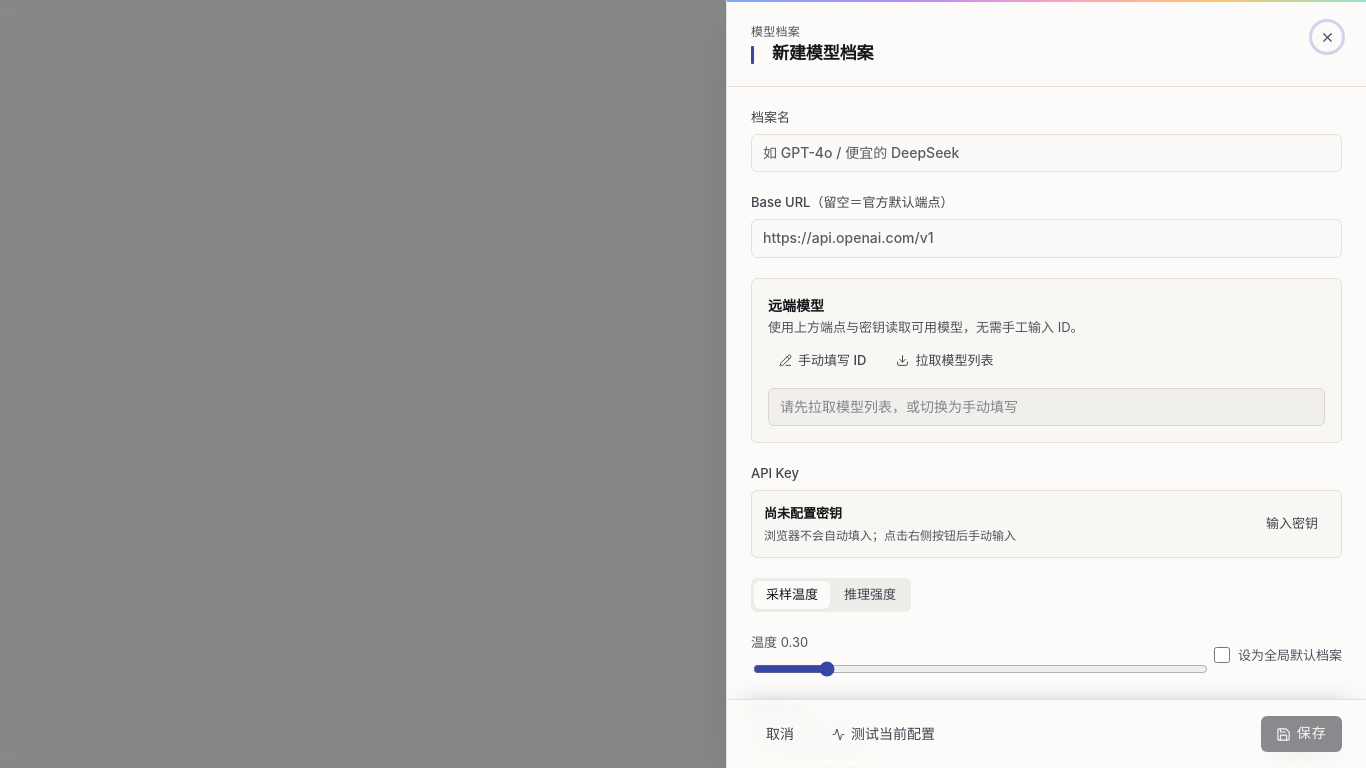
Test: rejects inconsistent capacities instead of saving an impossible request
This screenshot has width=1366, height=768.
In the field labelled "档案名": point(1046, 153) [751,134,1342,172], type "test"
(page scrolled)
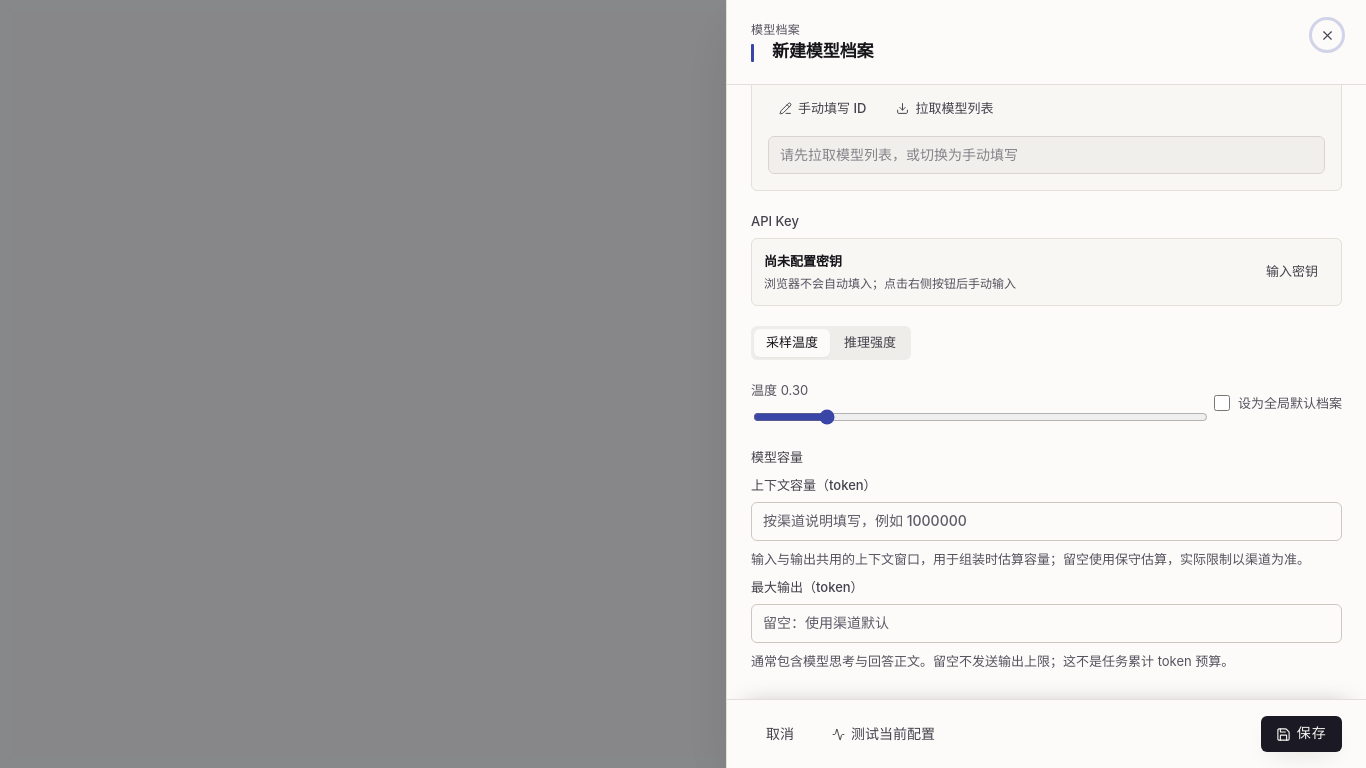
In the number field labelled "上下文容量（token）": point(1046, 522) [751,502,1342,541], type "1000"
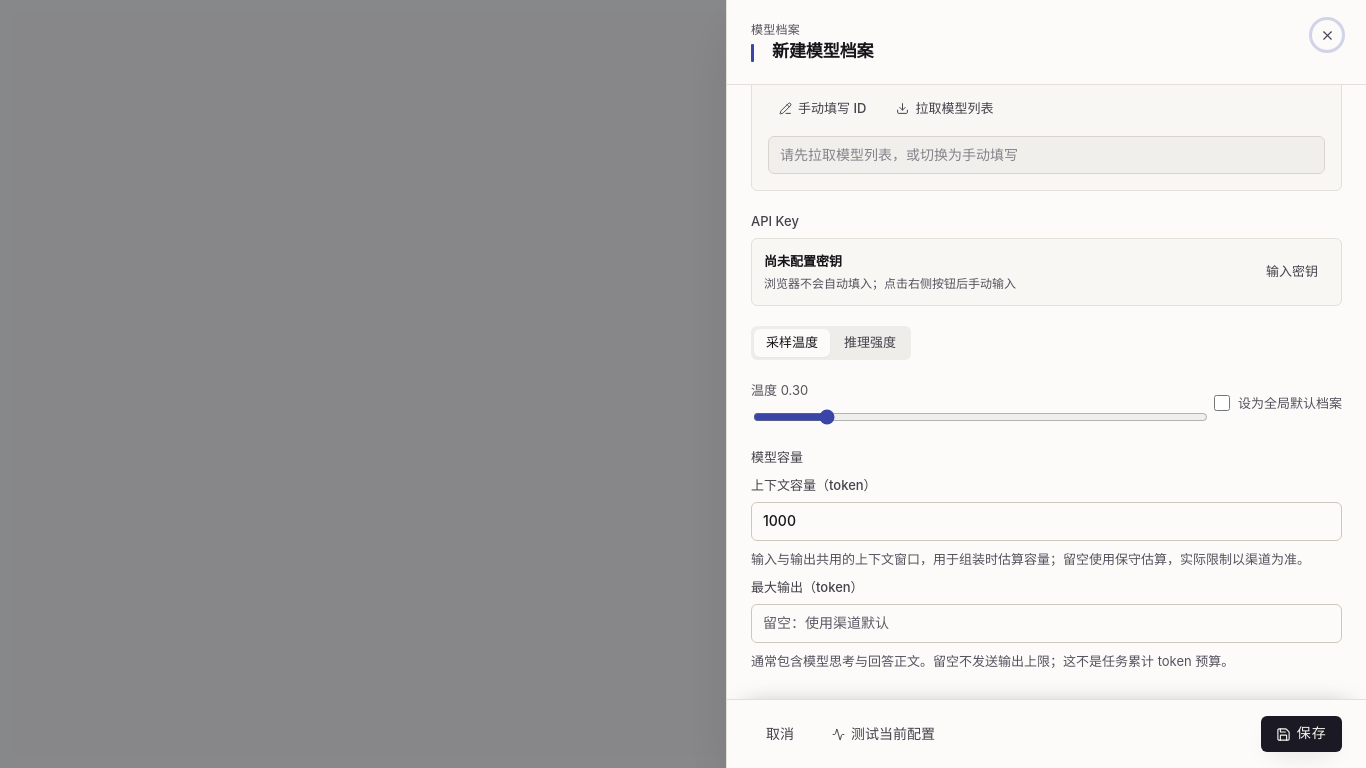
In the number field labelled "最大输出（token）": point(1046, 623) [751,604,1342,643], type "2000"
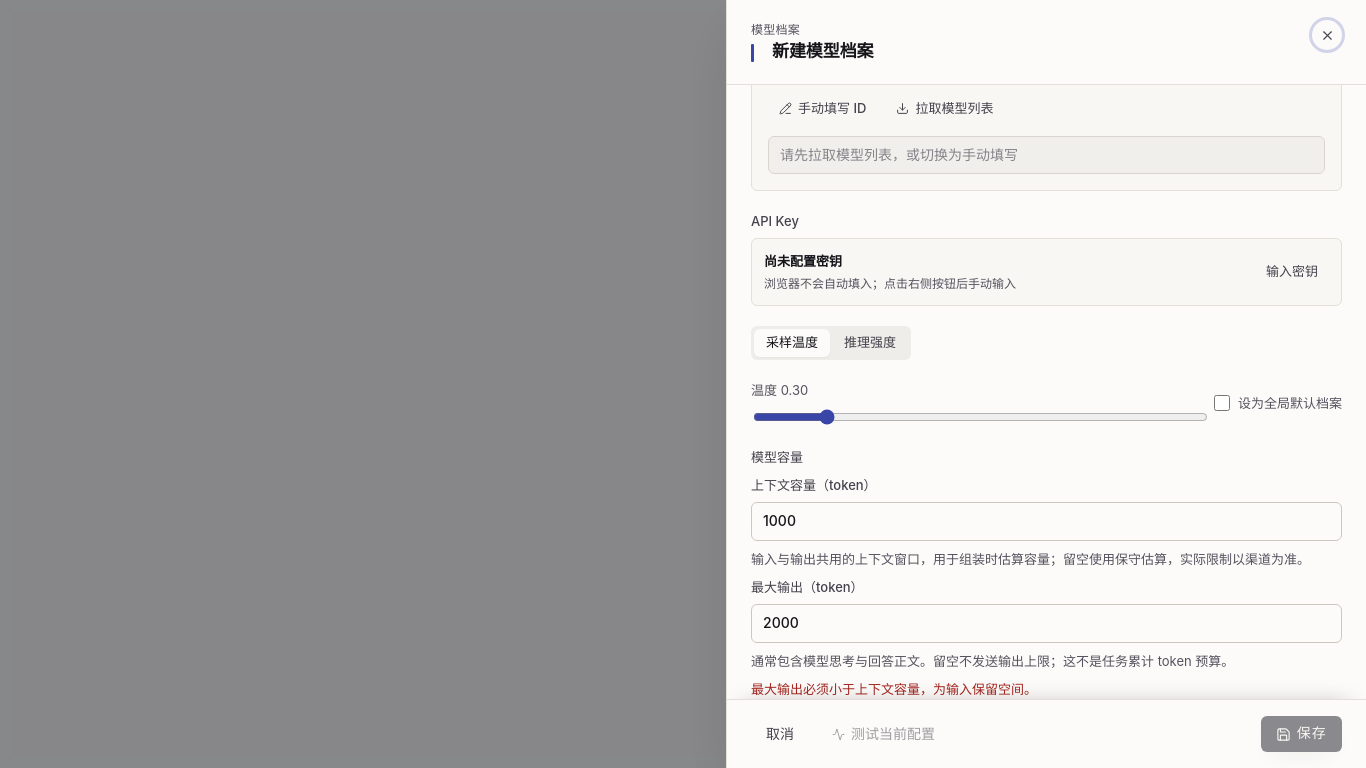
Check: the message shows "最大输出必须小于上下文容量", box [751,681,1037,697]
Check: the button "保存" is disabled, box [1261,716,1342,752]
